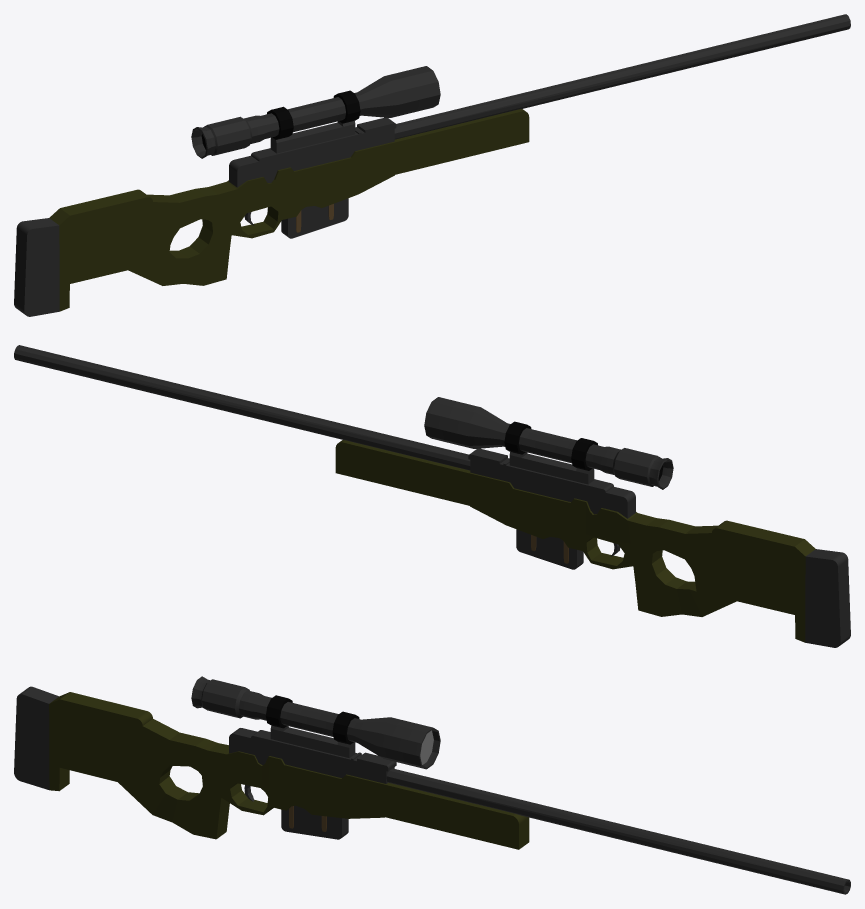
Rendered from Sniper.fbx.
3 views of the same model, one above another, from view 1: azimuth 30°, elevation 25°; view 2: azimuth 150°, elevation 25°; view 3: azimuth 330°, elevation 25° (orthographic).
Parts seen in each view (by area): view 1: Main Body, Barrel, Scope, Stock, ScopeMount, Magazine, Scope Upper Mount; view 2: Main Body, Barrel, Scope, Stock, ScopeMount, Magazine, Scope Upper Mount; view 3: Main Body, Barrel, Scope, ScopeMount, Stock, Magazine, Scope Upper Mount, Scope Ring 2, Scope Ring.
Part boxes in pixels (x1,y1,x2,y2): Main Body: [49, 109, 529, 311]; Barrel: [394, 14, 850, 139]; Scope: [191, 66, 440, 158]; Stock: [14, 218, 59, 316]; ScopeMount: [229, 117, 396, 187]; Magazine: [281, 198, 348, 238]; Scope Upper Mount: [270, 121, 355, 153]; Main Body: [335, 440, 815, 642]; Barrel: [14, 345, 470, 470]; Scope: [424, 397, 673, 489]; Stock: [805, 549, 850, 647]; ScopeMount: [468, 448, 635, 518]; Magazine: [516, 529, 583, 569]; Scope Upper Mount: [509, 452, 594, 484]; Main Body: [49, 692, 529, 849]; Barrel: [386, 768, 850, 894]; Scope: [191, 676, 440, 769]; ScopeMount: [229, 728, 396, 783]; Stock: [14, 686, 58, 790]; Magazine: [281, 805, 348, 839]; Scope Upper Mount: [270, 725, 355, 758]; Scope Ring 2: [332, 711, 359, 744]; Scope Ring: [265, 695, 292, 728].
Bounding box in the file's own units: 2278 × 414 × 102.
